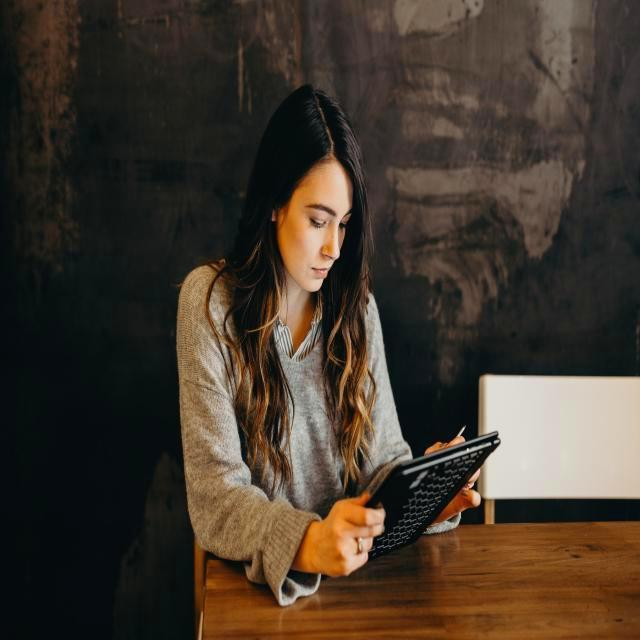Looking away: (278, 152, 354, 292)
